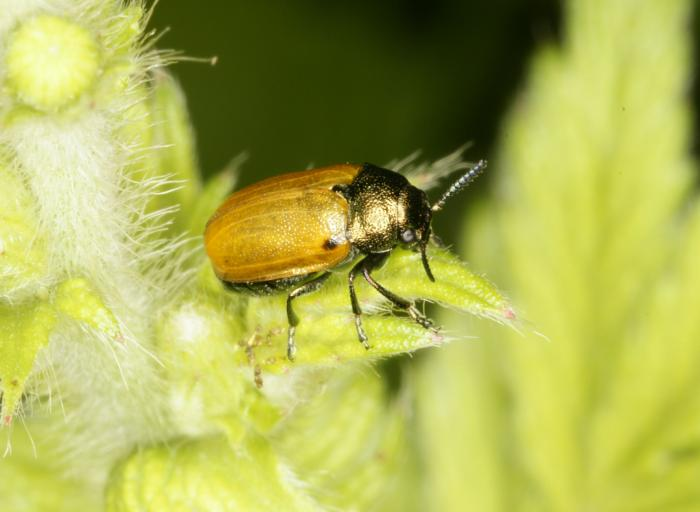Labidostomis_longimana: (202, 158, 490, 362)
